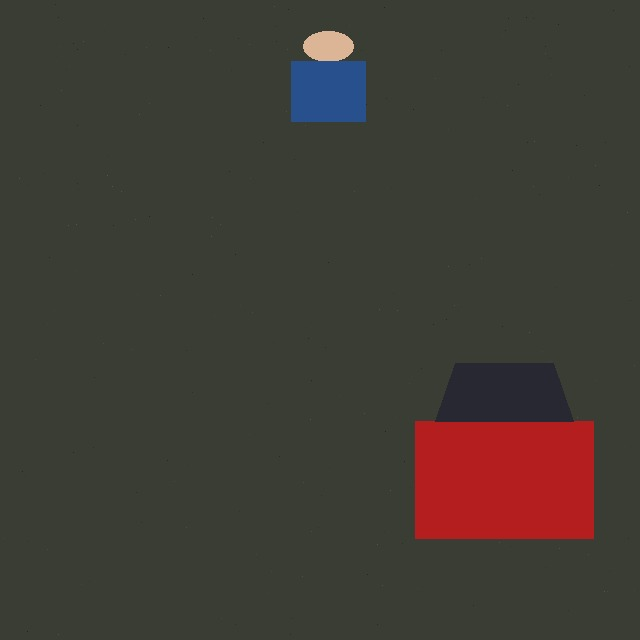person: (254, 31, 403, 121)
vehicle: (415, 363, 593, 538)
